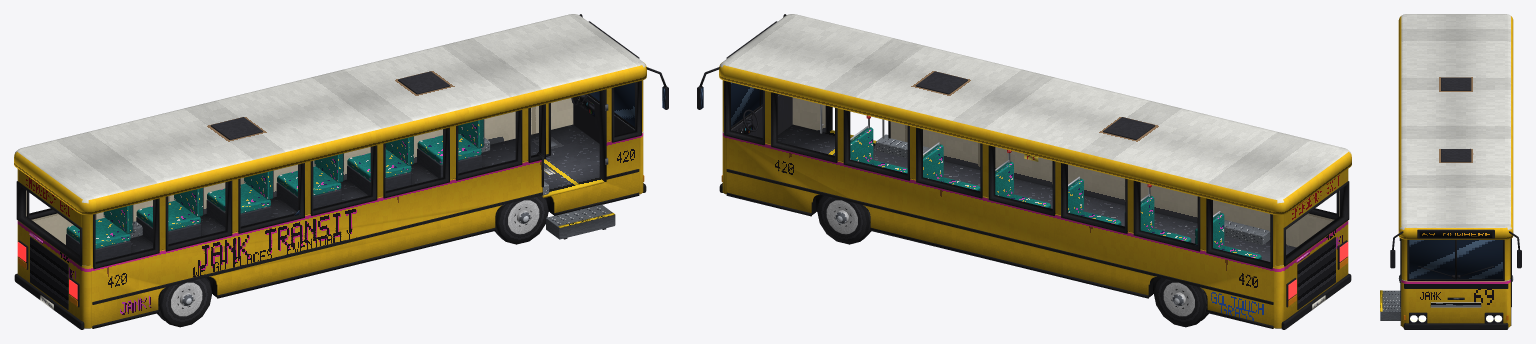
File: p_transitbus.glb
The picture shows the model from 3 angles, left to right: view 1: azimuth 30°, elevation 25°; view 2: azimuth 150°, elevation 25°; view 3: azimuth 270°, elevation 25°; orthographic projection. The views are drawn at different scales.
Visible parts, largest first — view 1: transitbus_lod0; view 2: transitbus_lod0; view 3: transitbus_lod0.
Part boxes in pixels (bbox=[...]): transitbus_lod0: bbox=[14, 14, 668, 329]; transitbus_lod0: bbox=[697, 14, 1351, 329]; transitbus_lod0: bbox=[1380, 14, 1521, 329].
Size of what is drawn, in the model's own units: 12.4 by 3.12 by 3.36.
Materials: 5 (3 with a texture image).
